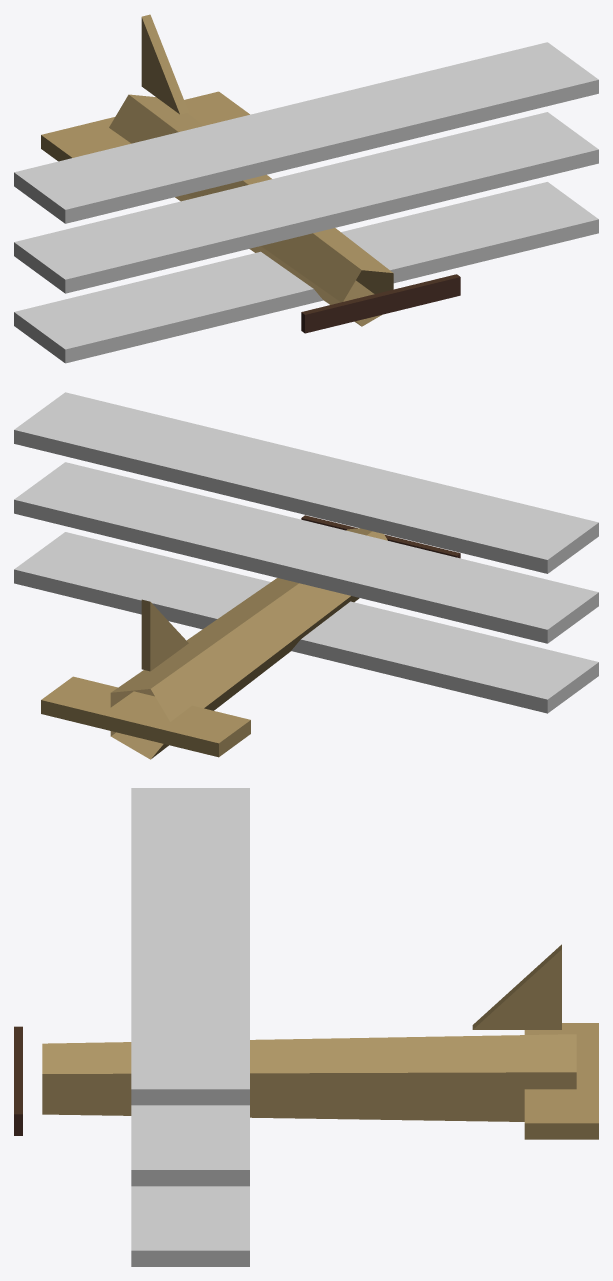
File: Triplane.glb
3 views of the same model, one above another, from view 1: azimuth 30°, elevation 25°; view 2: azimuth 150°, elevation 25°; view 3: azimuth 270°, elevation 25° (orthographic). The views are drawn at different scales.
Visible parts, largest first — view 1: Units_Triplane; view 2: Units_Triplane; view 3: Units_Triplane.
Boxes of the visible parts, x1=… form: Units_Triplane: x1=14, y1=14, x2=598, y2=363; Units_Triplane: x1=14, y1=392, x2=598, y2=759; Units_Triplane: x1=14, y1=788, x2=598, y2=1266.
Bounding box in the file's own units: 0.24 × 0.0682 × 0.197.
